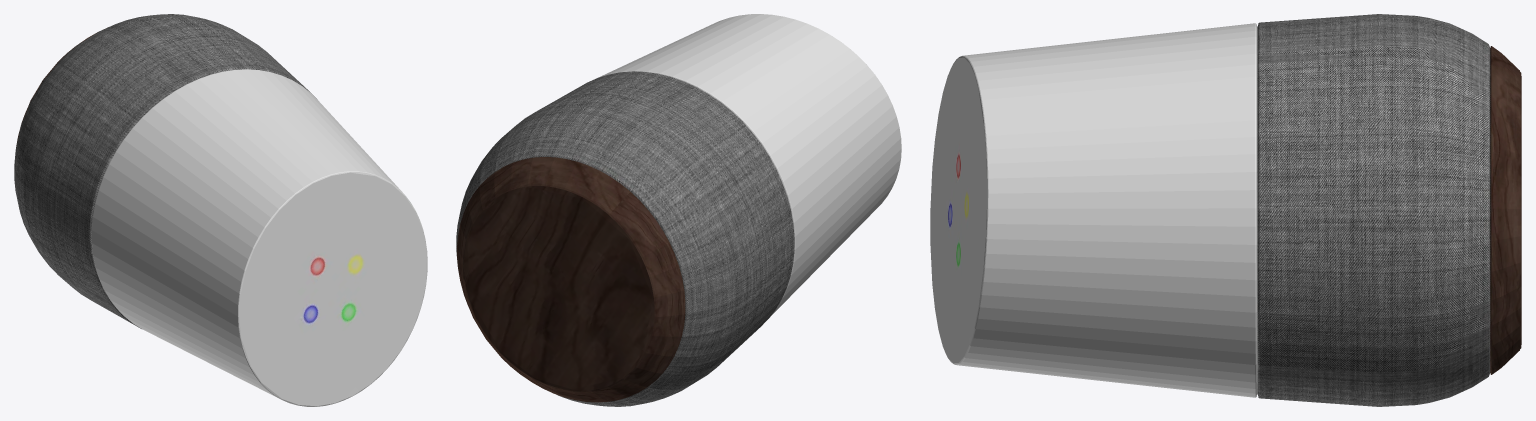
File: ngon_quad.glb
The picture shows the model from 3 angles, left to right: view 1: azimuth 30°, elevation 25°; view 2: azimuth 150°, elevation 25°; view 3: azimuth 270°, elevation 25°; orthographic projection. The views are drawn at different scales.
Visible parts, largest first — view 1: Mesh_2; view 2: Mesh_2; view 3: Mesh_2.
Boxes of the visible parts, bbox=[...] form: Mesh_2: bbox=[14, 14, 427, 406]; Mesh_2: bbox=[456, 14, 901, 406]; Mesh_2: bbox=[930, 14, 1521, 406].
Bounding box in the file's own units: 1.41 × 1.41 × 2.12.
1 material, 1 textured.
